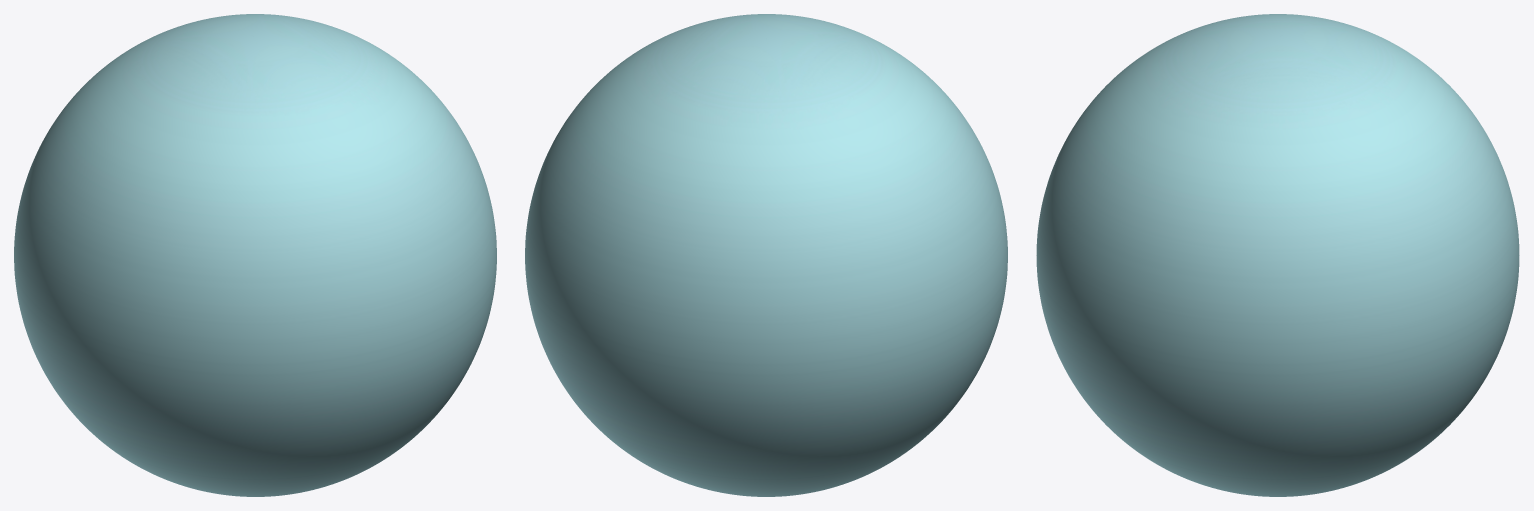
The model's file is uranus.glb.
3 renders of one model, left to right at view 1: azimuth 30°, elevation 25°; view 2: azimuth 150°, elevation 25°; view 3: azimuth 270°, elevation 25°, orthographic.
Visible parts, largest first — view 1: Object_3; view 2: Object_3; view 3: Object_3.
Boxes of the visible parts, x1=… form: Object_3: x1=14, y1=14, x2=496, y2=496; Object_3: x1=525, y1=14, x2=1007, y2=496; Object_3: x1=1036, y1=14, x2=1519, y2=496.
Bounding box in the file's own units: 2 × 2 × 2.
Materials: 1 (1 with a texture image).
